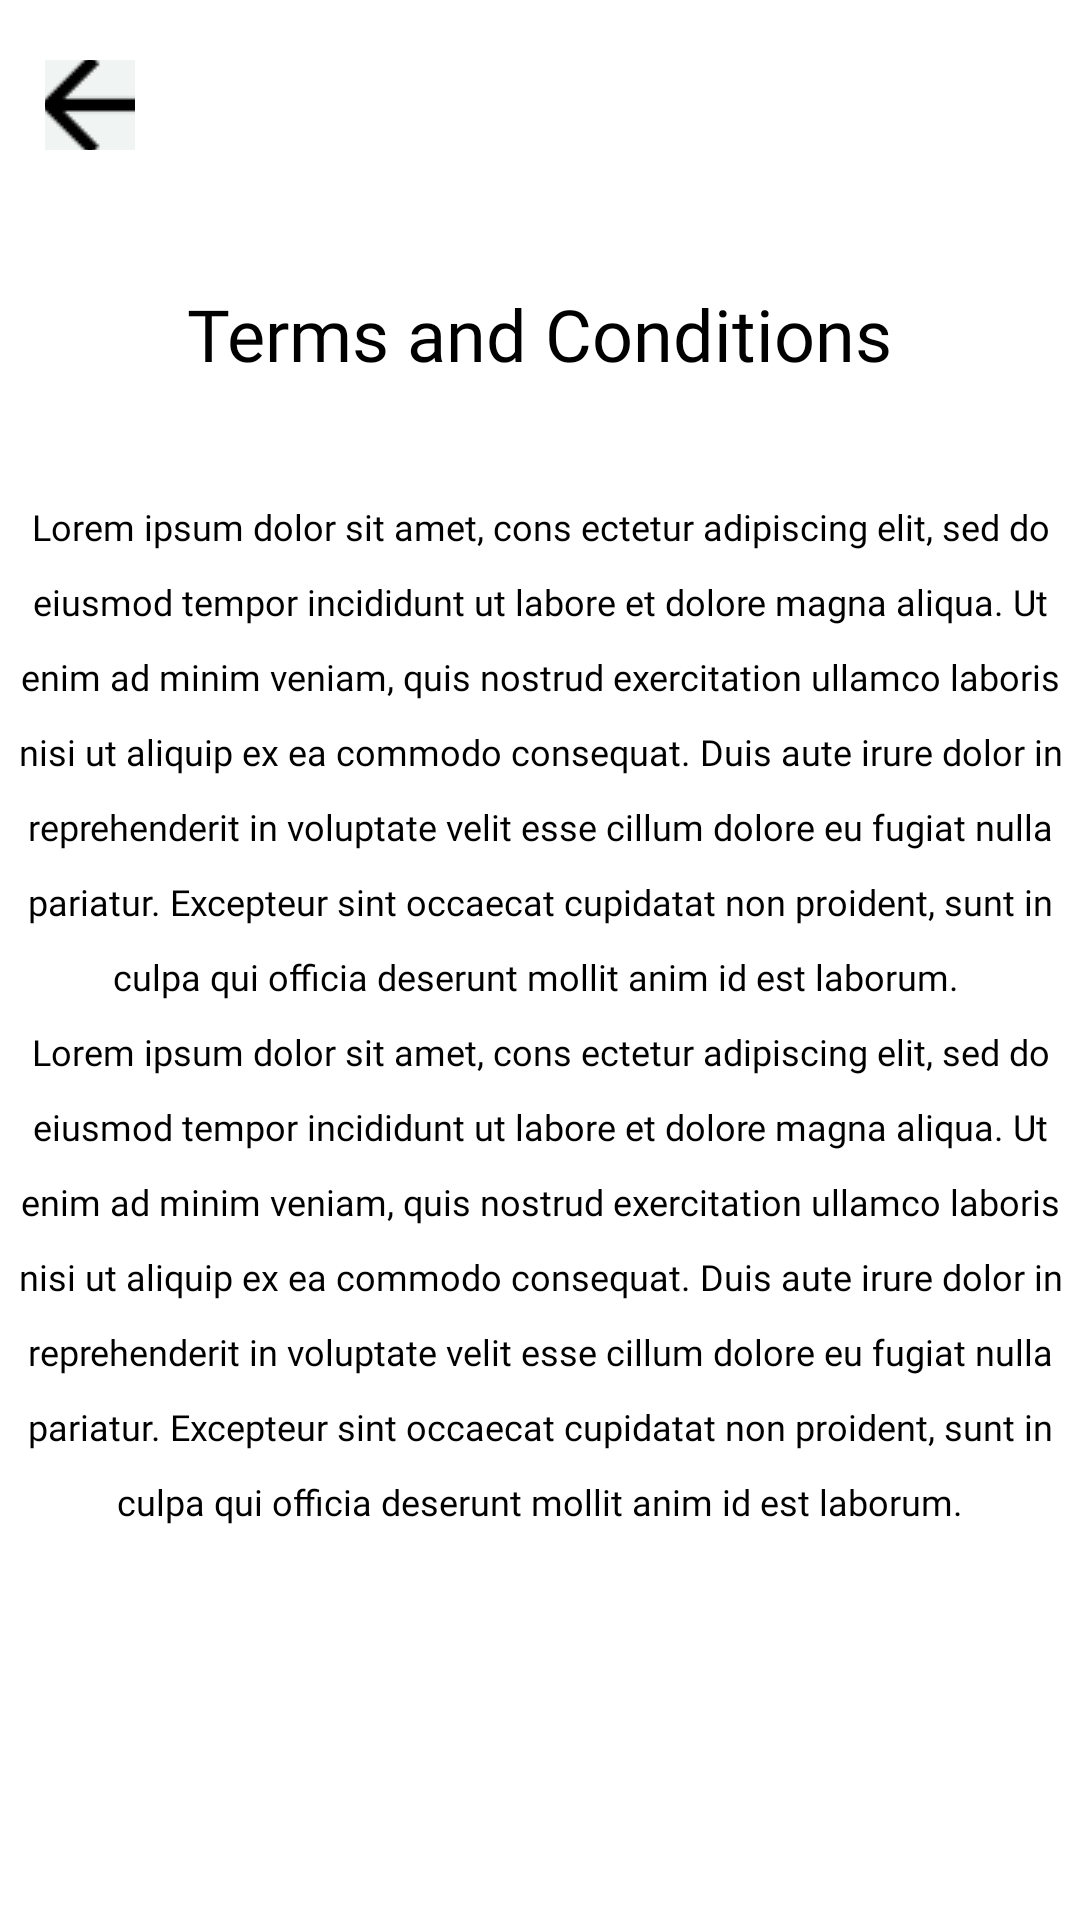

Icon bounding boxes for this 1080px×1920px phone screenshot, format (x1, y1, x2, y2):
backingicon: (45, 60, 135, 150)
